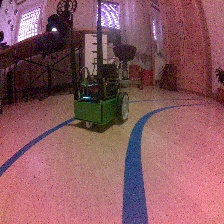rob: (73, 62, 130, 129)
